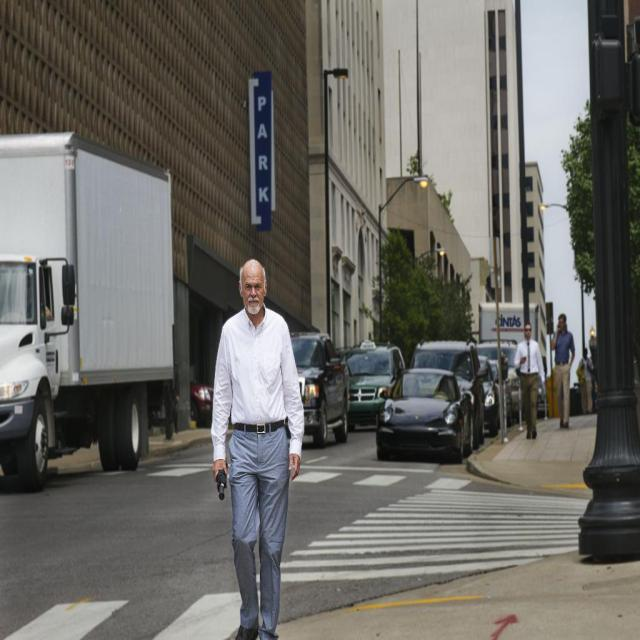car: (376, 365, 468, 464)
